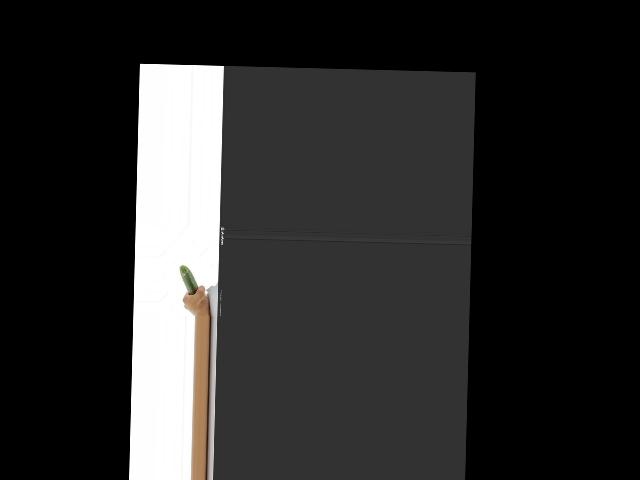cucumber: (179, 265, 198, 295)
